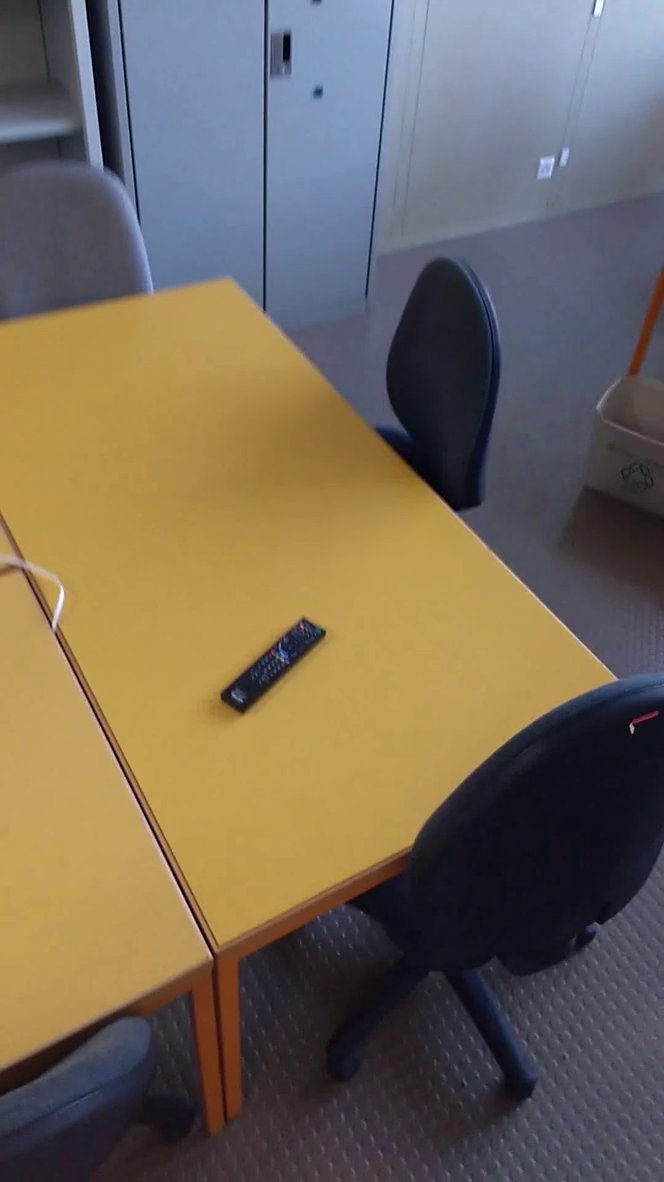box: (569, 357, 664, 527)
chair: (325, 642, 664, 1135), (360, 248, 514, 535), (1, 153, 184, 339)
remote: (208, 611, 347, 726)
